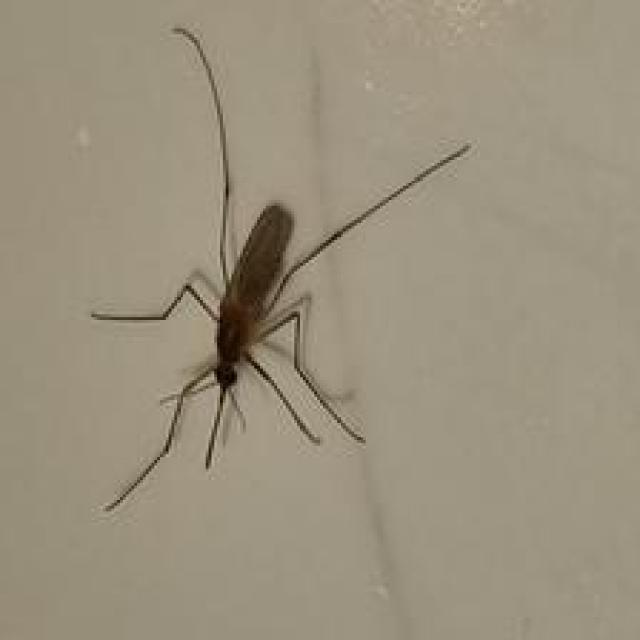Culex: (89, 23, 472, 514)
